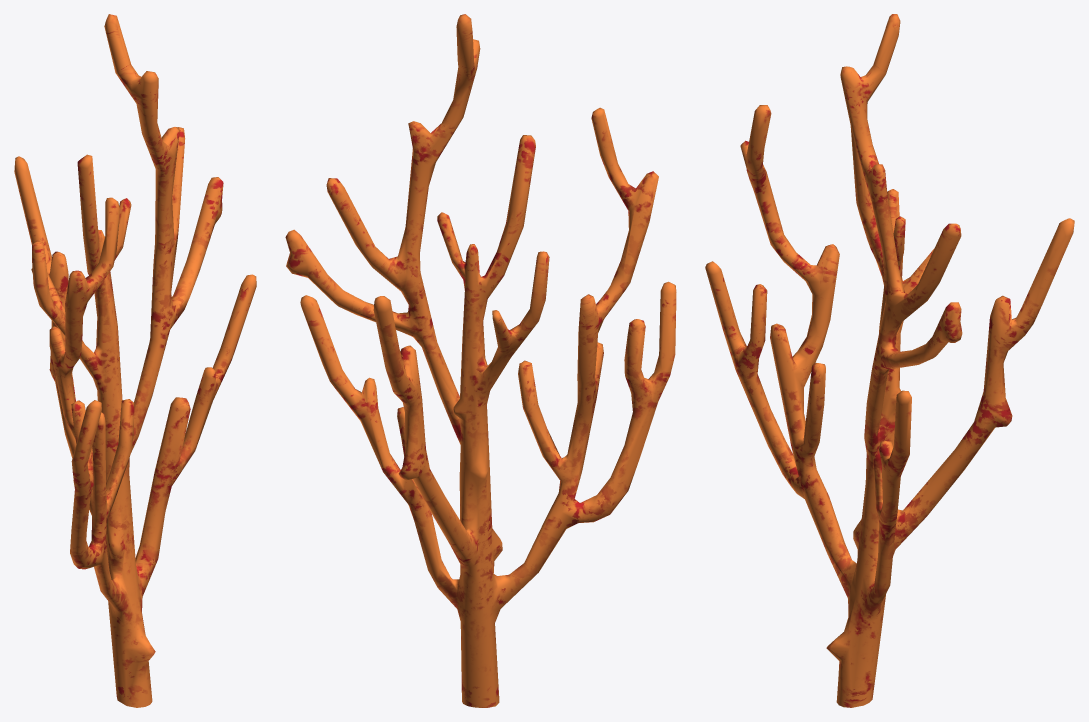
The model's file is seaRod00a.fbx.
The picture shows the model from 3 angles, left to right: view 1: azimuth 30°, elevation 25°; view 2: azimuth 150°, elevation 25°; view 3: azimuth 270°, elevation 25°; orthographic projection. The views are drawn at different scales.
Parts seen in each view (by area): view 1: seaRod00a; view 2: seaRod00a; view 3: seaRod00a.
Part boxes in pixels (left/top/right/bottom): seaRod00a: left=14, top=14, right=256, bottom=707; seaRod00a: left=285, top=14, right=676, bottom=707; seaRod00a: left=705, top=14, right=1074, bottom=707.
Size of the model in its own units: 0.2059 by 0.4913 by 0.2401.
